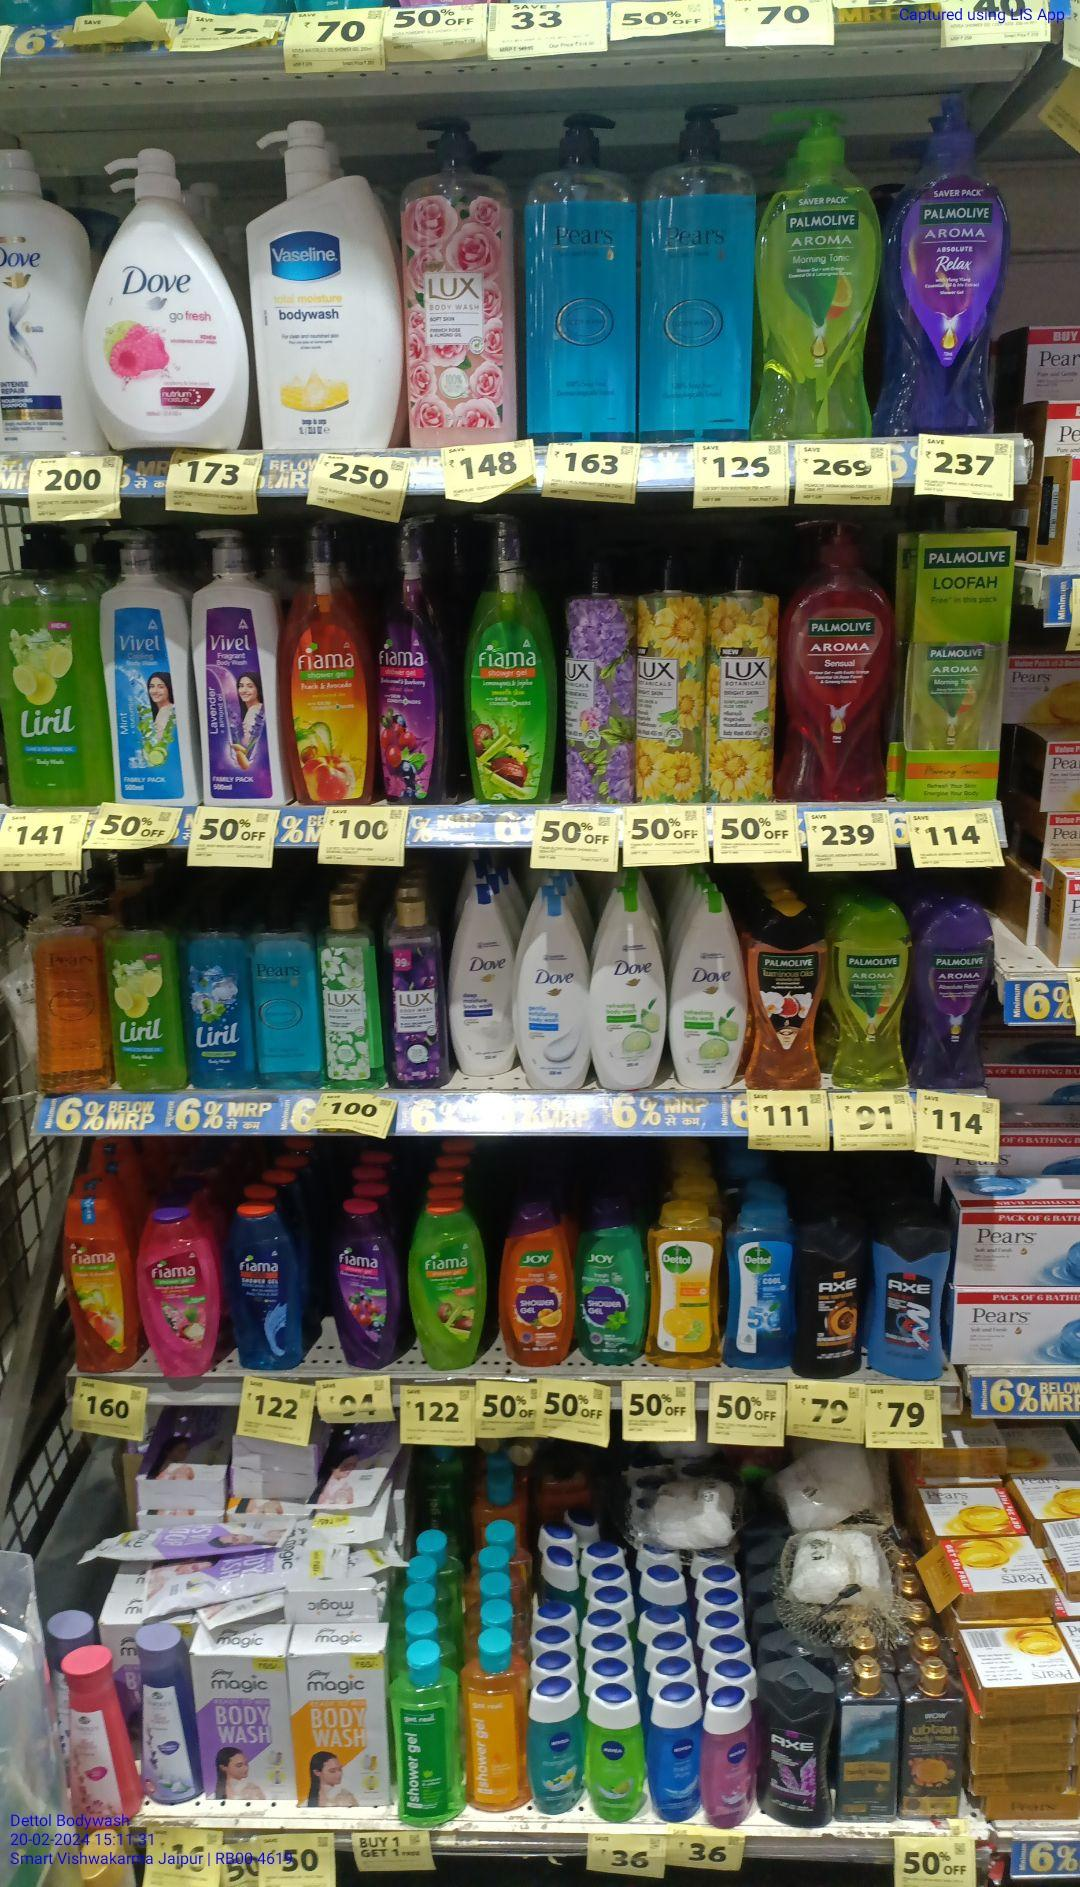Dove_Deep_Moisture_Body_Wash_250ML: (456, 883, 513, 1078)
Dove_Gentle_Exfoliating_Body_Wash_250ML: (517, 890, 591, 1091)
Dove_Refreshing_Body_Wash_250ML: (672, 886, 748, 1089), (595, 885, 666, 1087)
Liril_Cooling_Mint_Body_Wash_250ML: (193, 899, 258, 1091)
Liril_Lime_and_Tea_Tree_Oil_Body_Wash_250ML: (105, 902, 187, 1093)
Lux_Black_Orchid_Scent_and_Juniper_Oil_Body_Wash_245ML: (386, 893, 452, 1087)
Lux_Body_Wash_Skin_Detox_Freesia_Scent_and_Alove_Vera_245ML: (325, 896, 384, 1091)
Palmolive_Aroma_Morning_Tonic_Shower_Gel_250ML: (834, 901, 911, 1089)
Palmolive_Aroma_Relax_250ML: (914, 899, 993, 1086)
Palmolive_Luminous_Oils_With_White_Orchid_Shower_Gel_250ML: (753, 896, 826, 1090)
Pears_Pure_Glycerin_and_Mint_Extracts_Body_Wash_250ML: (263, 899, 322, 1087)
